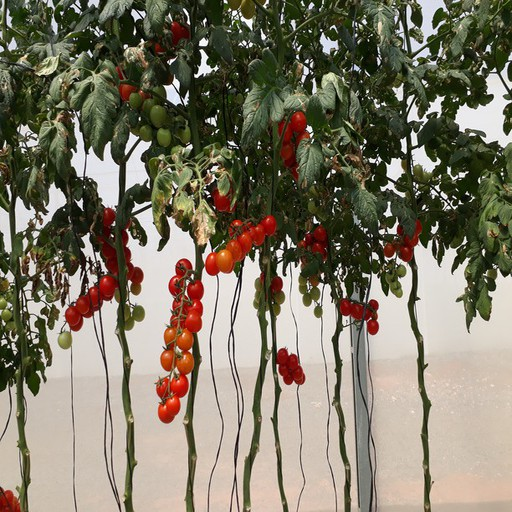green tomato bunch: (129, 95, 191, 151), (377, 259, 406, 300), (1, 284, 19, 333)
mixed tomato bunch: (252, 276, 284, 316)
red tomato bunch: (157, 260, 202, 422), (113, 22, 191, 101), (208, 211, 275, 274), (96, 207, 144, 289), (65, 267, 116, 331), (278, 110, 317, 190), (297, 223, 330, 286), (337, 298, 382, 335), (381, 221, 423, 260), (275, 347, 306, 387)
